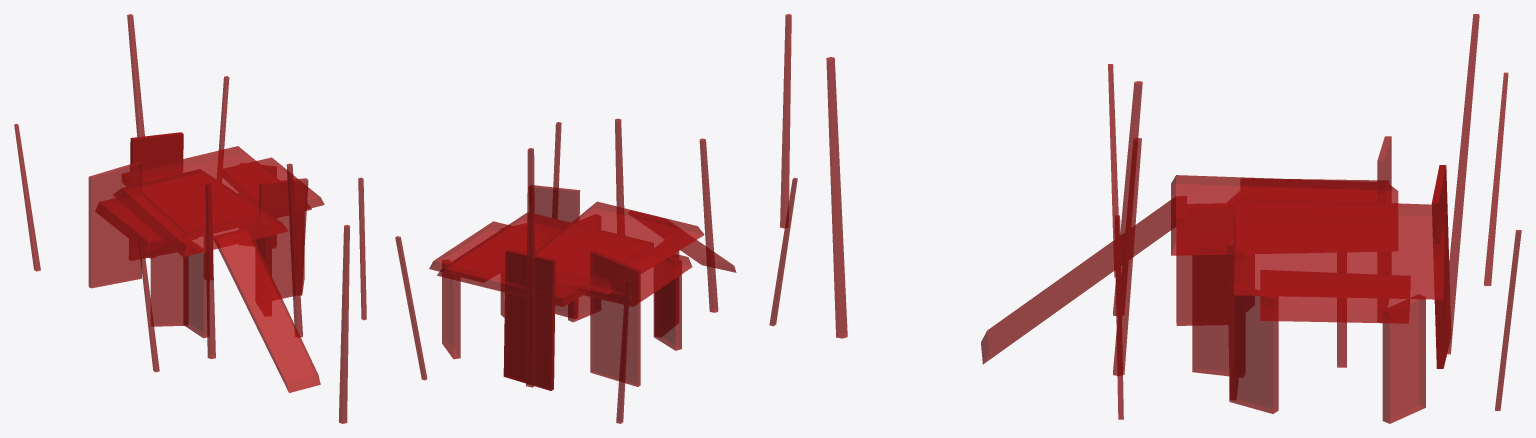
Rendered from SM_Bld_Camp_Tent_04_Collision.fbx.
3 renders of one model, left to right at view 1: azimuth 30°, elevation 25°; view 2: azimuth 150°, elevation 25°; view 3: azimuth 270°, elevation 25°, orthographic. The views are drawn at different scales.
Parts seen in each view (by area): view 1: SM_Bld_Camp_Tent_04_Collision; view 2: SM_Bld_Camp_Tent_04_Collision; view 3: SM_Bld_Camp_Tent_04_Collision.
Boxes of the visible parts, x1,y1,x2,y2 form: SM_Bld_Camp_Tent_04_Collision: (14,14,366,423); SM_Bld_Camp_Tent_04_Collision: (395,14,797,423); SM_Bld_Camp_Tent_04_Collision: (826,14,1521,423).
Size of the model in its own units: 889 by 848 by 1572.
